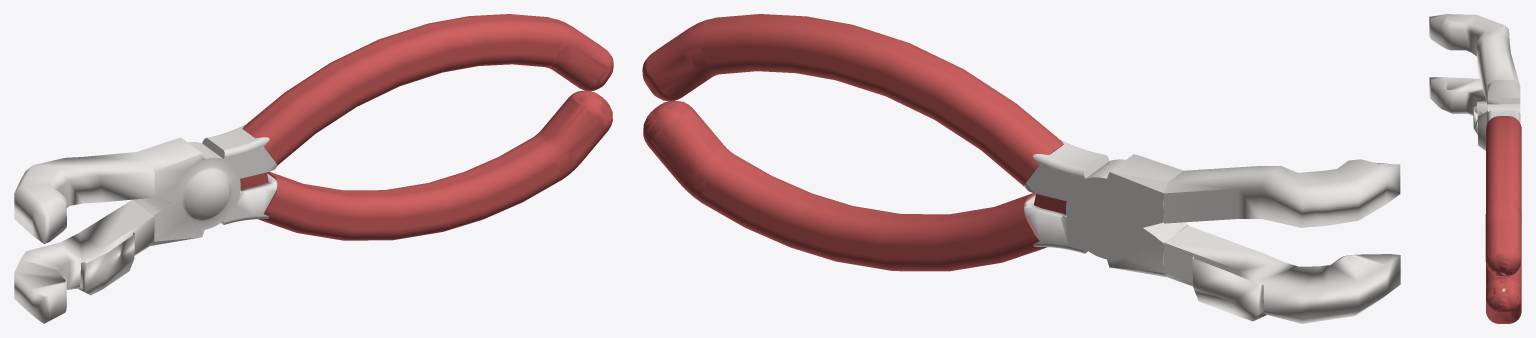
The model's file is FORCEPS errone.fbx.
3 renders of one model, left to right at view 1: azimuth 30°, elevation 25°; view 2: azimuth 150°, elevation 25°; view 3: azimuth 270°, elevation 25°, orthographic. The views are drawn at different scales.
Visible parts, largest first — view 1: HERP, Ensamblaje alicates.004, Ensamblaje 03, Ens 5; view 2: HERP, Ensamblaje alicates.004, Ensamblaje 03, Ens 5; view 3: HERP, Ensamblaje alicates.004, Ensamblaje 03, Ens 5.
Part boxes in pixels (<box>): HERP: <box>134,14,613,245</box>; Ensamblaje alicates.004: <box>14,152,154,243</box>; Ensamblaje 03: <box>14,199,154,323</box>; Ens 5: <box>78,232,134,295</box>; HERP: <box>642,14,1188,277</box>; Ensamblaje alicates.004: <box>1164,159,1400,227</box>; Ensamblaje 03: <box>1164,225,1400,323</box>; Ens 5: <box>1192,257,1266,321</box>; HERP: <box>1478,80,1521,323</box>; Ensamblaje alicates.004: <box>1429,14,1519,104</box>; Ensamblaje 03: <box>1429,77,1487,115</box>; Ens 5: <box>1473,106,1479,134</box>.
Bounding box in the file's own units: 18127 × 5700 × 3109.
